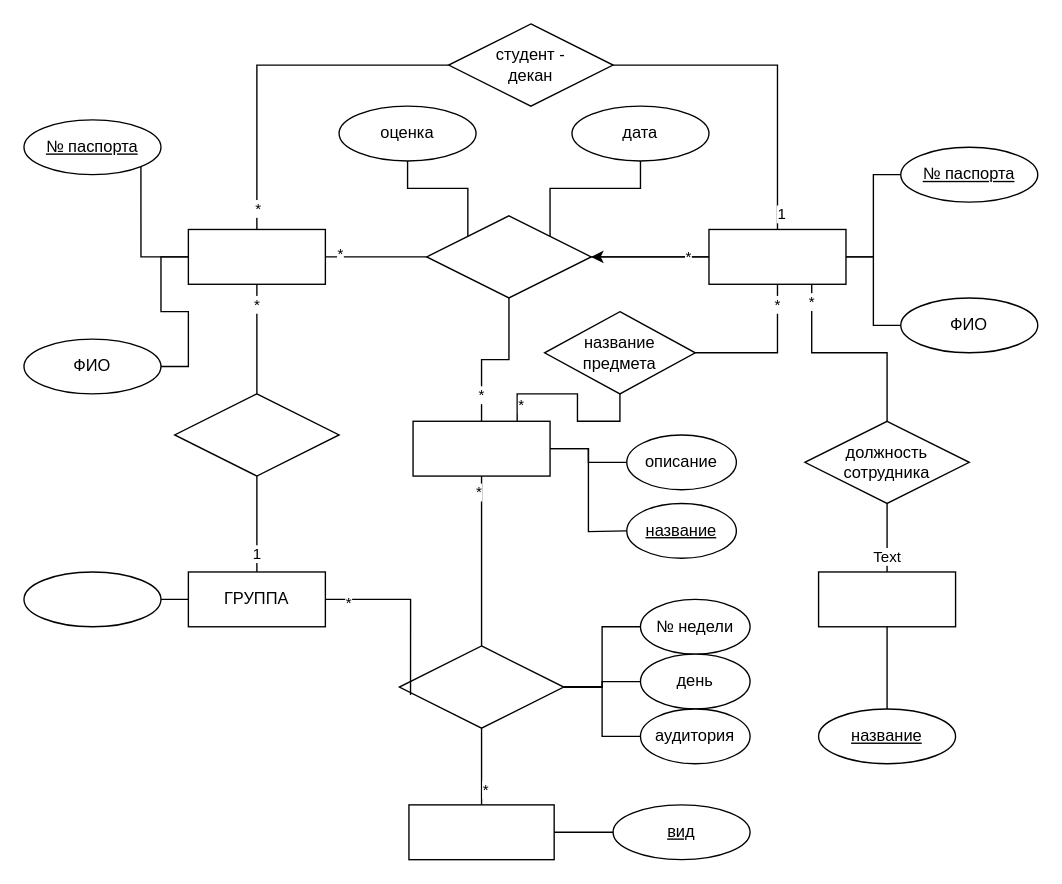
This 1062x884 diagram has some shape labels left out. The shapes that lost their labels are listed below. From the top down, each one's centre as x and y in pixels, then its label:
At (256,256): "СТУДЕНТ".
At (508,256): "журнал оценки".
At (777,256): "СОТРУДНИК".
At (256,434): "состав группы".
At (481,448): "ПРЕДМЕТ".
At (92,599): "номер".
At (886,599): "ДОЛЖНОСТЬ".
At (481,686): "расписание предметов".
At (481,832): "ВИД ЗАНЯТИЙ".
